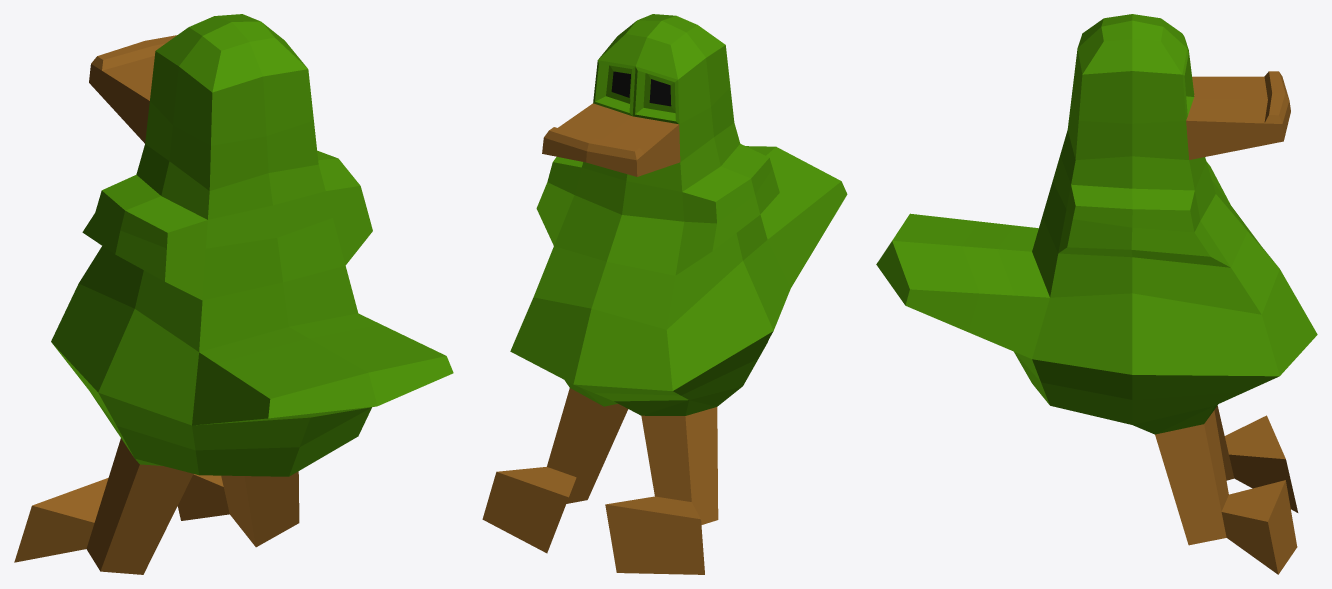
The model's file is DUCK_PROTOv2.fbx.
The picture shows the model from 3 angles, left to right: view 1: azimuth 30°, elevation 25°; view 2: azimuth 150°, elevation 25°; view 3: azimuth 270°, elevation 25°; orthographic projection. The views are drawn at different scales.
Visible parts, largest first — view 1: Empty_Mesh; view 2: Empty_Mesh; view 3: Empty_Mesh.
Part boxes in pixels (<box>): Empty_Mesh: <box>14,14,453,574</box>; Empty_Mesh: <box>482,14,847,574</box>; Empty_Mesh: <box>876,14,1317,574</box>.
Bounding box in the file's own units: 103 × 213 × 167.
